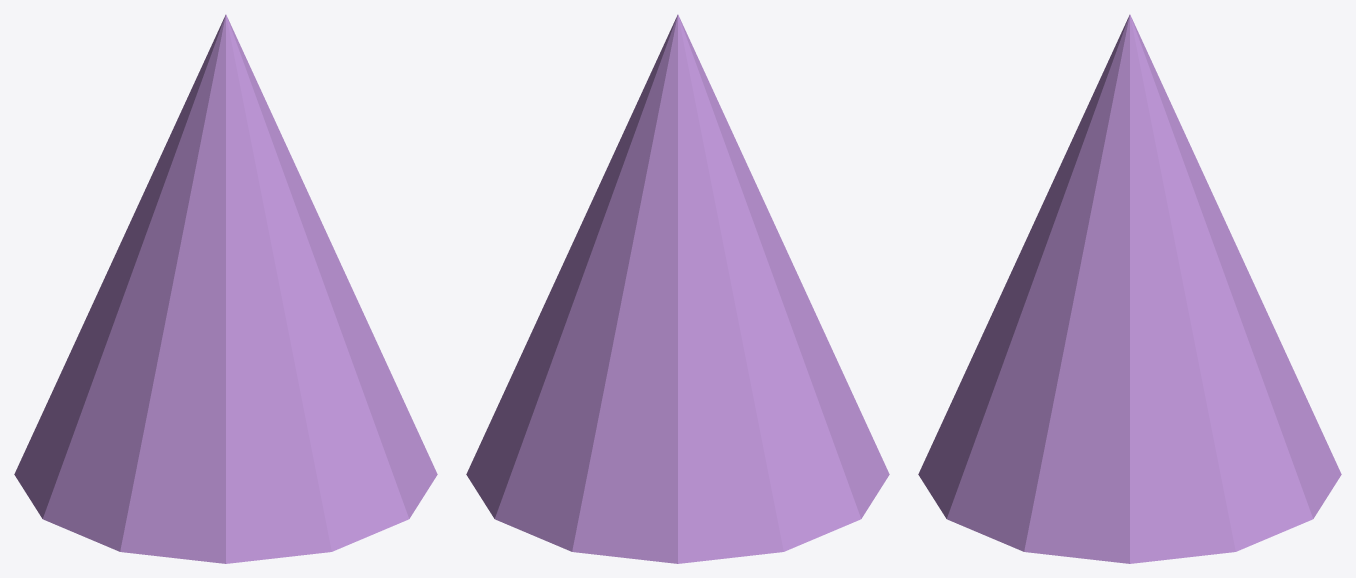
3 views of the same model, side by side, from view 1: azimuth 30°, elevation 25°; view 2: azimuth 150°, elevation 25°; view 3: azimuth 270°, elevation 25° (orthographic).
Parts seen in each view (by area): view 1: Cone; view 2: Cone; view 3: Cone.
Part boxes in pixels (left/top/right/bottom): Cone: left=14, top=14, right=437, bottom=563; Cone: left=466, top=14, right=889, bottom=563; Cone: left=918, top=14, right=1341, bottom=563.
Bounding box in the file's own units: 1.5 × 1.8 × 1.5.
